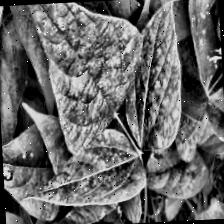Bean Rust: (22, 0, 140, 155), (120, 0, 185, 156), (36, 128, 148, 209), (184, 0, 223, 101)
